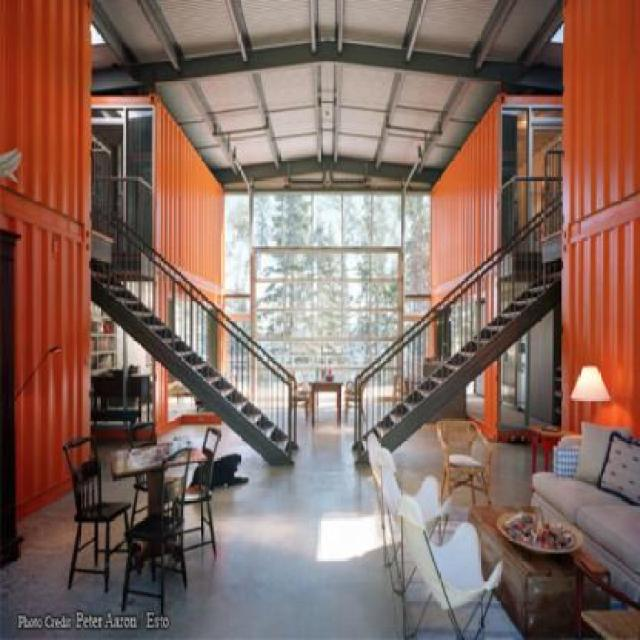stair: (349, 269, 563, 465), (90, 271, 298, 466)
